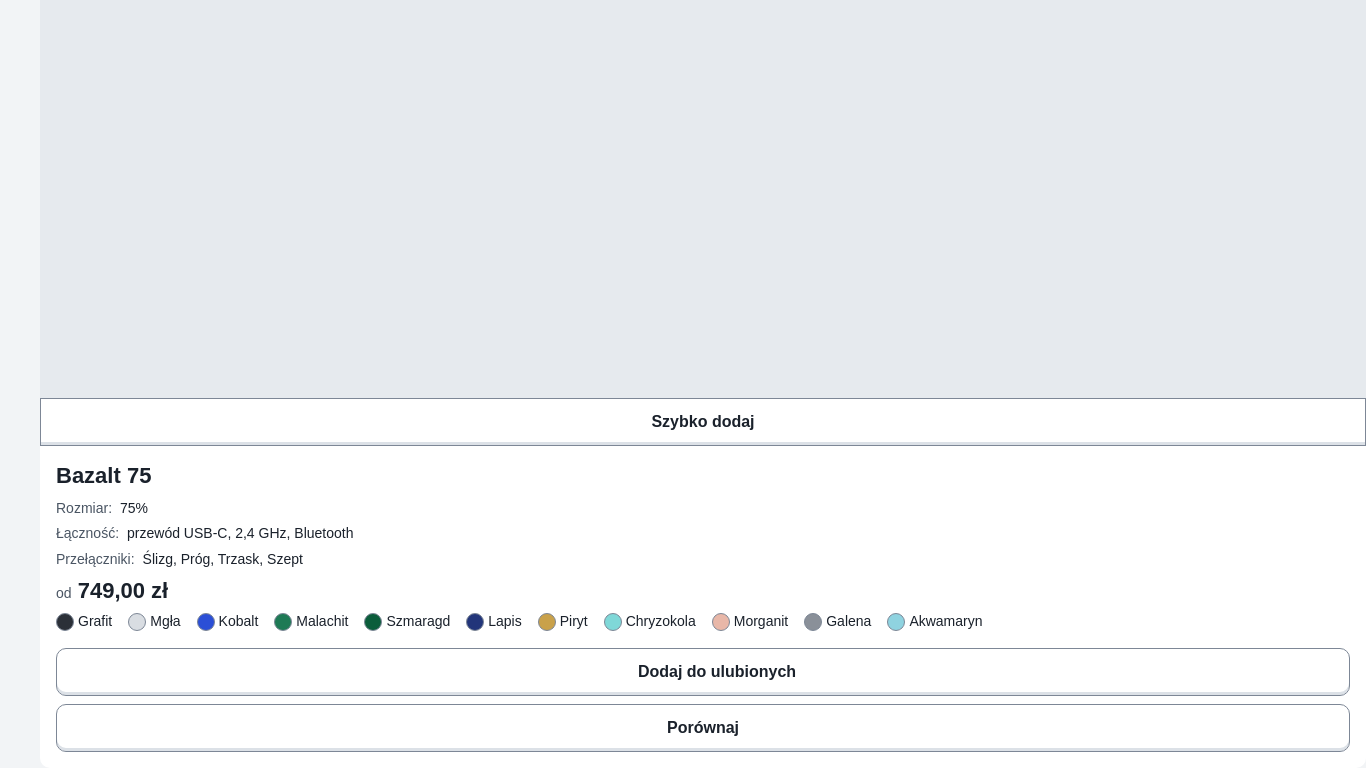
Test: panel wyboru wariantu (F-043) › niedostepne warianty sa oznaczone 'Brak': Kobalt + Szept (stan 0) jest wybieralne, ale blokuje dodanie
(page scrolled)
Click the button "Szybko dodaj" at (703, 422), box [40,398,1365,446]
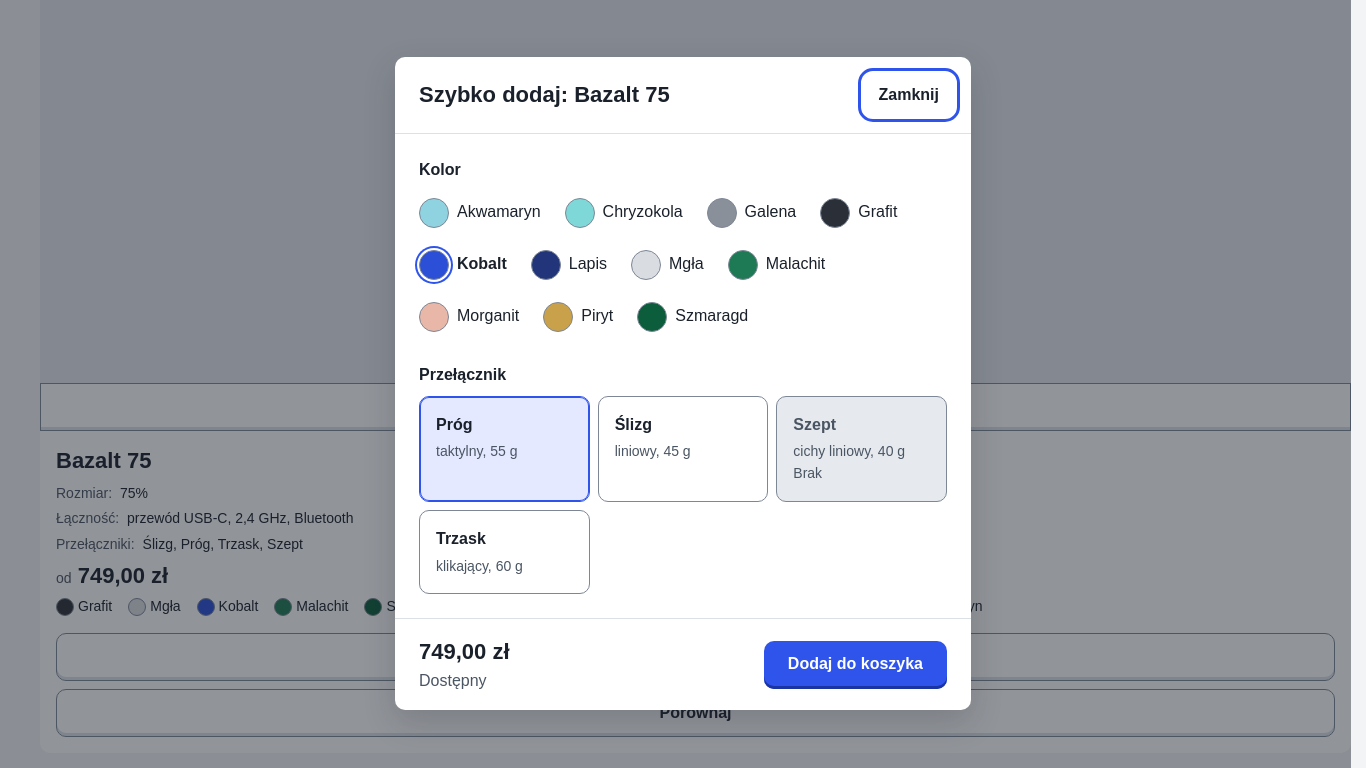
Check: the radio button labelled "Ślizg liniowy, 45 g" does not show "Brak", box [598,396,768,502]
Check: the radio button labelled "Szept" shows "Brak", box [793,466,822,482]
Click the radio button labelled "Szept" at (862, 449), box [776,396,947,502]
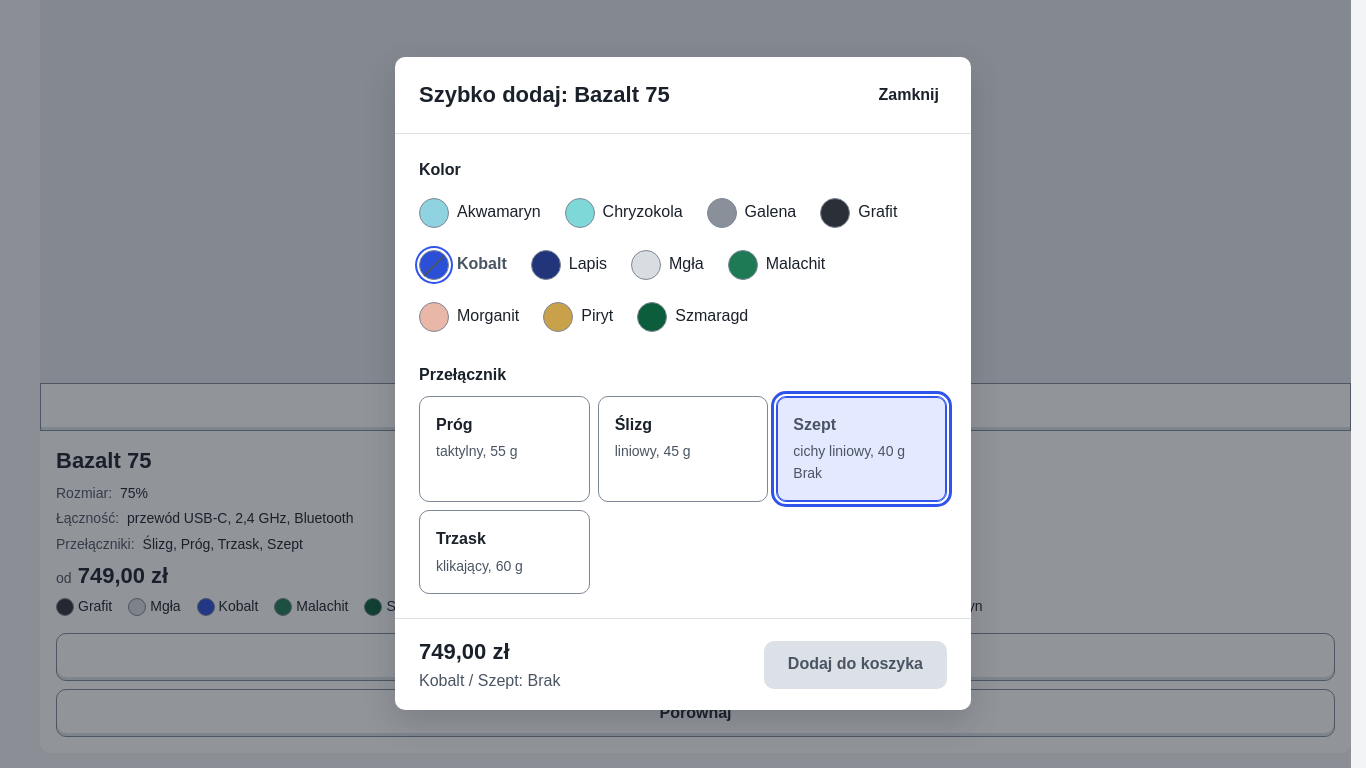
Check: the button "Dodaj do koszyka" is disabled, box [764,641,947,689]
